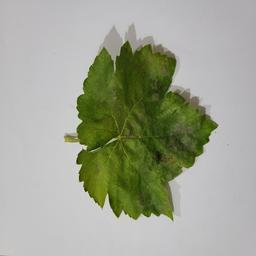Powdery-Mildew: (152, 94, 214, 155), (83, 58, 122, 113), (87, 146, 119, 206), (148, 165, 175, 218), (109, 188, 143, 218), (143, 51, 174, 82), (125, 134, 143, 171), (159, 150, 185, 174)
